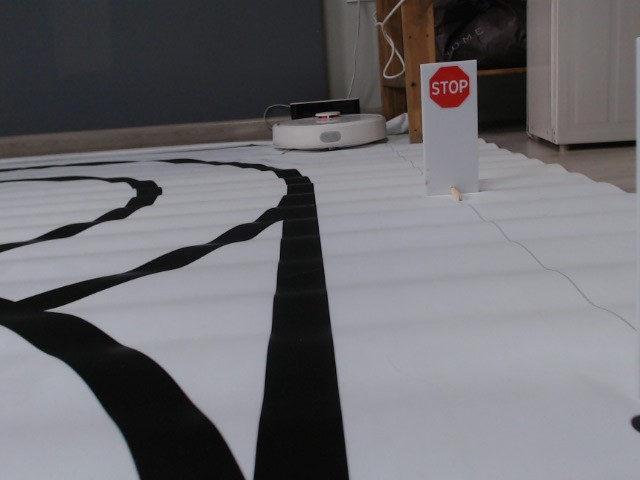Stop: (427, 64, 471, 110)
